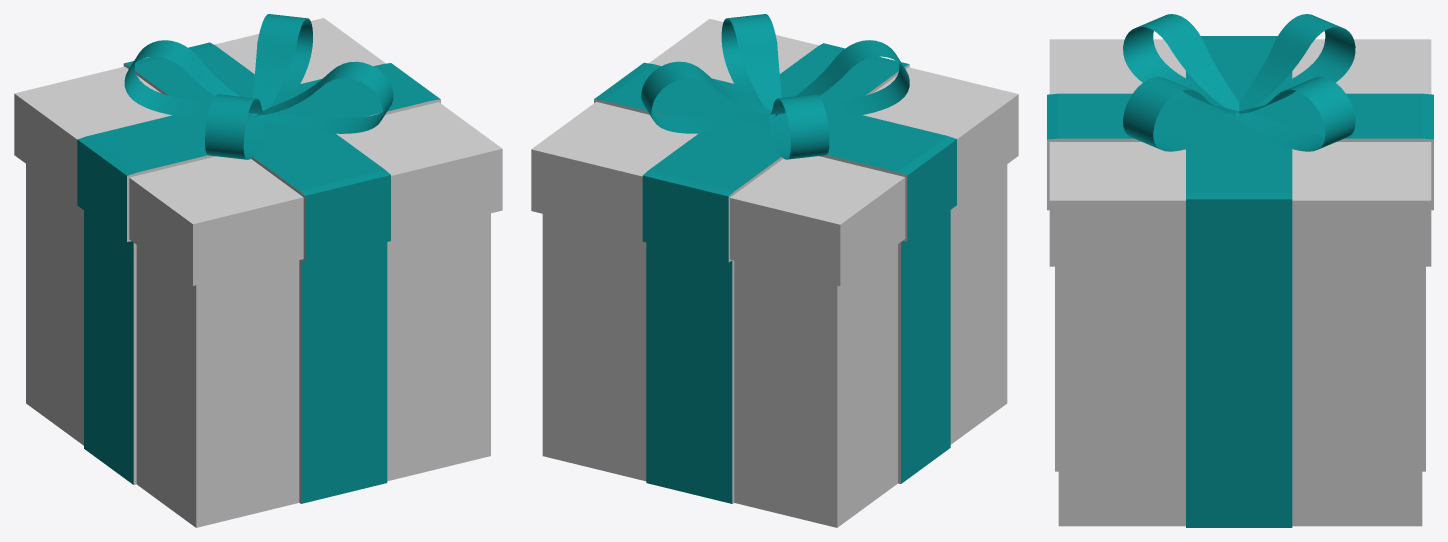
The model's file is Present Small Light Blue.glb.
The picture shows the model from 3 angles, left to right: view 1: azimuth 30°, elevation 25°; view 2: azimuth 150°, elevation 25°; view 3: azimuth 270°, elevation 25°; orthographic projection. The views are drawn at different scales.
Parts seen in each view (by area): view 1: Cube, BézierCircle.001, BézierCircle.003, BézierCircle, BézierCircle.004; view 2: Cube, BézierCircle, BézierCircle.004, BézierCircle.001, BézierCircle.003; view 3: Cube, BézierCircle.003, BézierCircle.004, BézierCircle.001, BézierCircle.
Boxes of the visible parts, x1,y1,x2,y2 form: Cube: [14, 18, 502, 527]; BézierCircle.001: [253, 14, 312, 110]; BézierCircle.003: [124, 40, 258, 118]; BézierCircle: [258, 61, 393, 133]; BézierCircle.004: [205, 94, 264, 159]; Cube: [531, 19, 1018, 527]; BézierCircle: [721, 14, 781, 110]; BézierCircle.004: [776, 40, 909, 118]; BézierCircle.001: [641, 61, 776, 133]; BézierCircle.003: [769, 94, 829, 159]; Cube: [1047, 36, 1433, 527]; BézierCircle.003: [1239, 14, 1355, 113]; BézierCircle.004: [1123, 14, 1239, 113]; BézierCircle.001: [1236, 77, 1355, 151]; BézierCircle: [1123, 77, 1242, 151].
Size of the model in its own units: 0.4257 by 0.4805 by 0.4257.
